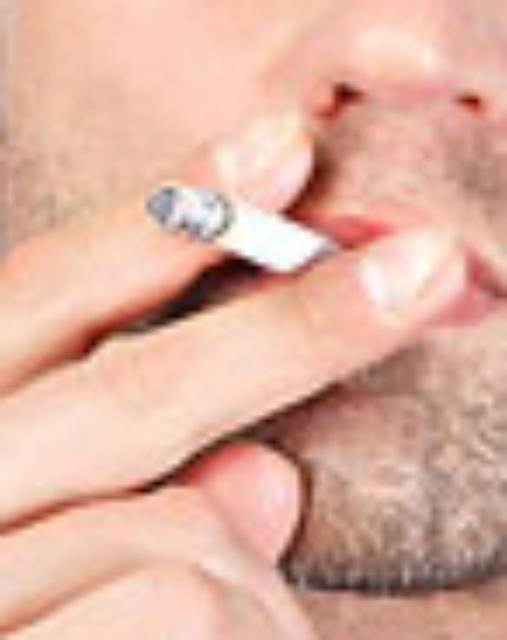Smoking: (142, 184, 348, 280)
